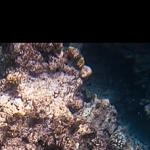dead: (1, 47, 147, 148)
